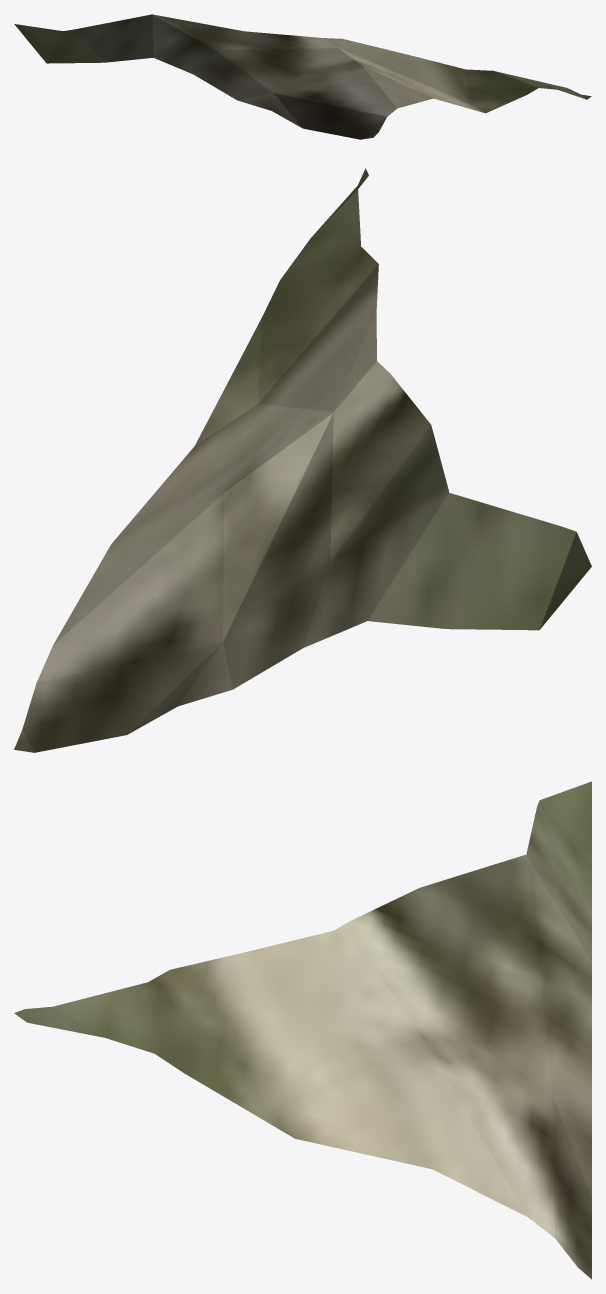
3 renders of one model, top to bottom at view 1: azimuth 30°, elevation 25°; view 2: azimuth 150°, elevation 25°; view 3: azimuth 270°, elevation 25°, orthographic. The views are drawn at different scales.
Bounding box in the file's own units: 0.4027 × 0.2159 × 0.4243.
Materials: 1 (1 with a texture image).
